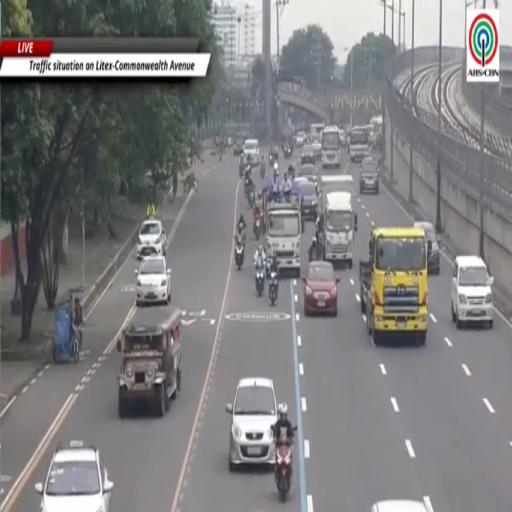bus: (321, 126, 341, 168), (348, 127, 370, 162), (310, 123, 325, 135)
car: (35, 441, 113, 511), (226, 377, 277, 471), (451, 255, 494, 328), (303, 261, 339, 315), (136, 256, 171, 306), (414, 221, 440, 275), (136, 219, 166, 260), (298, 178, 317, 220), (360, 158, 378, 194), (372, 500, 429, 511), (243, 139, 260, 166), (299, 164, 318, 185), (301, 144, 315, 165), (310, 134, 321, 159), (233, 137, 244, 156), (295, 132, 306, 147), (340, 130, 347, 147)
jeepney: (117, 306, 181, 418)
motorcycle: (276, 436, 292, 502), (269, 271, 278, 306), (255, 267, 265, 296), (235, 237, 244, 269), (247, 186, 255, 208), (254, 218, 261, 241), (260, 162, 266, 179), (239, 162, 245, 178), (284, 147, 292, 158)
tricycle: (52, 288, 83, 363), (269, 148, 279, 165)
truck: (360, 228, 431, 346), (321, 175, 357, 267), (265, 199, 303, 277), (310, 123, 325, 137)
